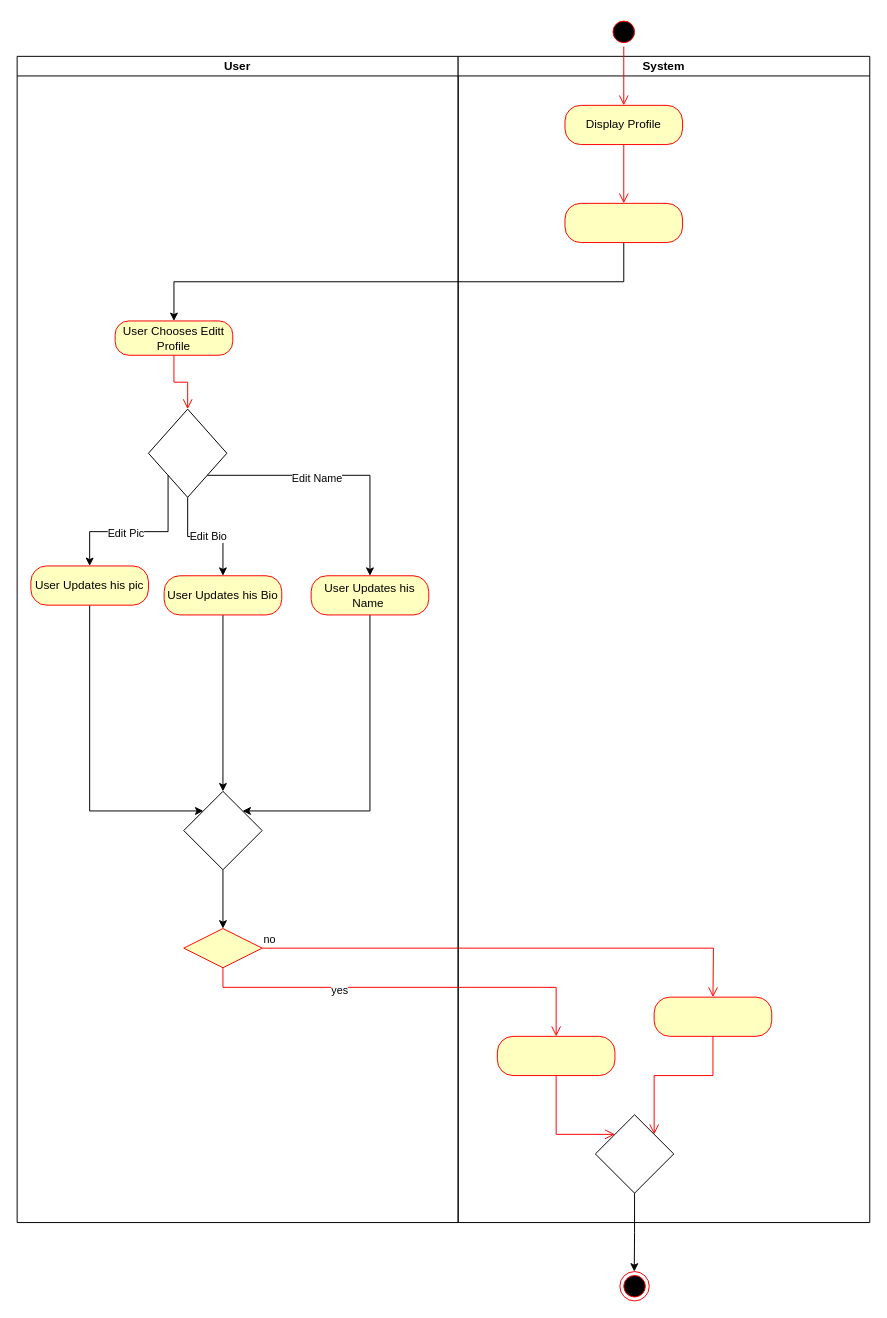
This 887x1318 diagram has some shape labels left out. Each missing label, with the box of its shape:
Cancel: (653, 996, 772, 1036)
System Confirms: (496, 1035, 615, 1076)
System Shows Posts: (564, 202, 683, 243)
Update Profile: (183, 928, 262, 968)
